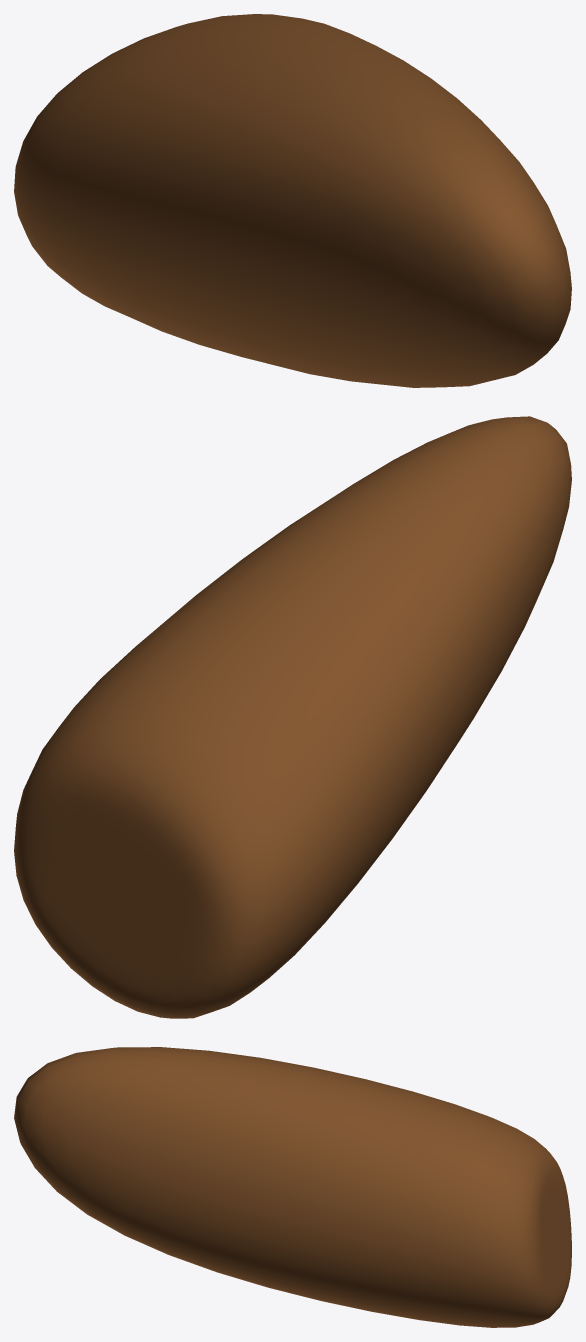
The model's file is RightLegBear.fbx.
3 views of the same model, one above another, from view 1: azimuth 30°, elevation 25°; view 2: azimuth 150°, elevation 25°; view 3: azimuth 270°, elevation 25° (orthographic). The views are drawn at different scales.
Visible parts, largest first — view 1: RightLeg; view 2: RightLeg; view 3: RightLeg.
Boxes of the visible parts, box(x1,y1,x2,y2) form: RightLeg: box(14, 14, 571, 387); RightLeg: box(14, 416, 571, 1018); RightLeg: box(14, 1047, 571, 1327).
Bounding box in the file's own units: 51.1 × 58.75 × 118.
